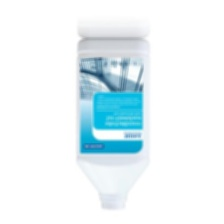cleaning_solution: (72, 33, 154, 212)
